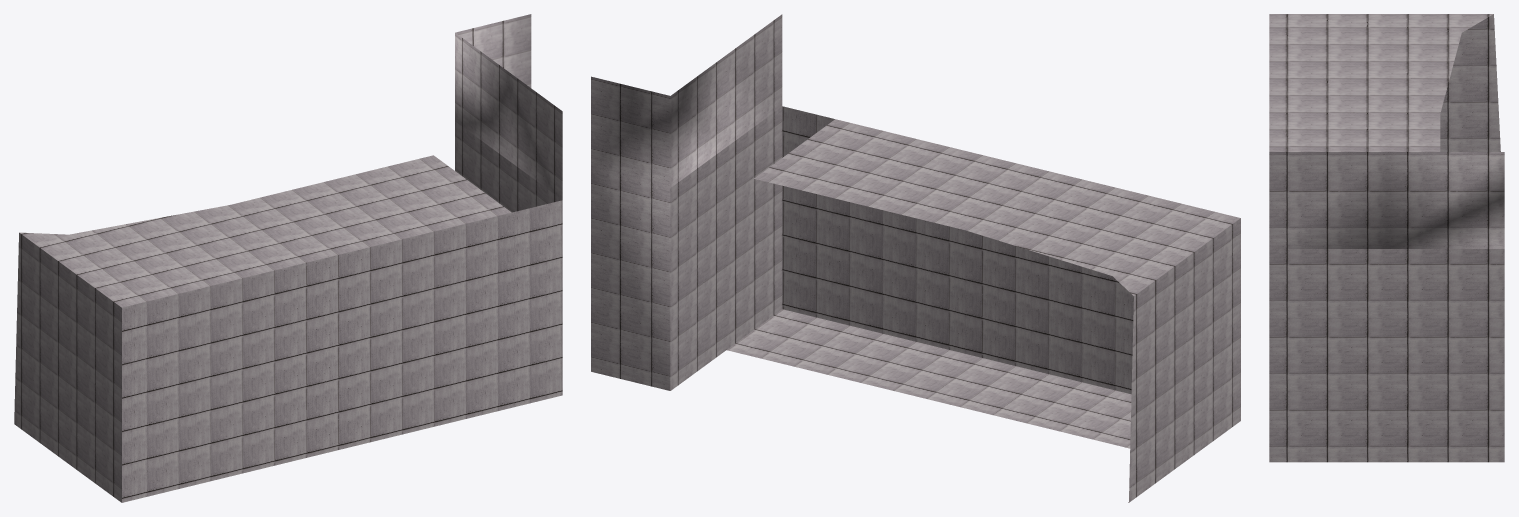
The model's file is Capilla_background.fbx.
3 renders of one model, left to right at view 1: azimuth 30°, elevation 25°; view 2: azimuth 150°, elevation 25°; view 3: azimuth 270°, elevation 25°, orthographic. The views are drawn at different scales.
Parts seen in each view (by area): view 1: Capilla_background; view 2: Capilla_background; view 3: Capilla_background.
Boxes of the visible parts, bbox=[...] form: Capilla_background: bbox=[14, 14, 562, 502]; Capilla_background: bbox=[591, 14, 1240, 502]; Capilla_background: bbox=[1269, 14, 1504, 462].
Size of the model in its own units: 6100 by 3200 by 2200.
